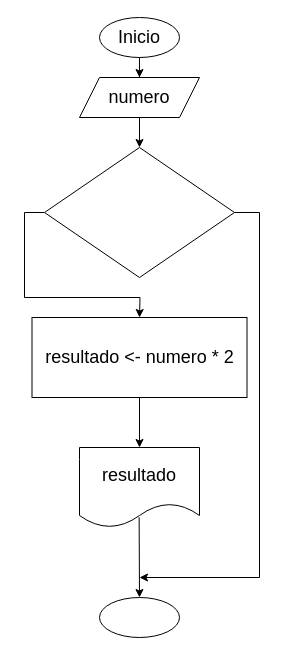
Image size: 285x655. Some labels were removed from this diagram. The shapes that lost their labels are listed below. From the top down, each one's centre as x and y in pixels, then its label:
At (139,212): "numero mod 2 = 0".
At (139,617): "Fin".
